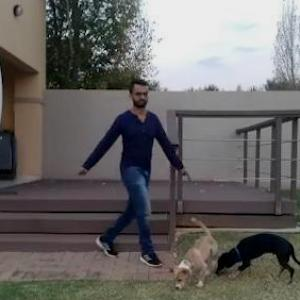land: (70, 84, 185, 272)
